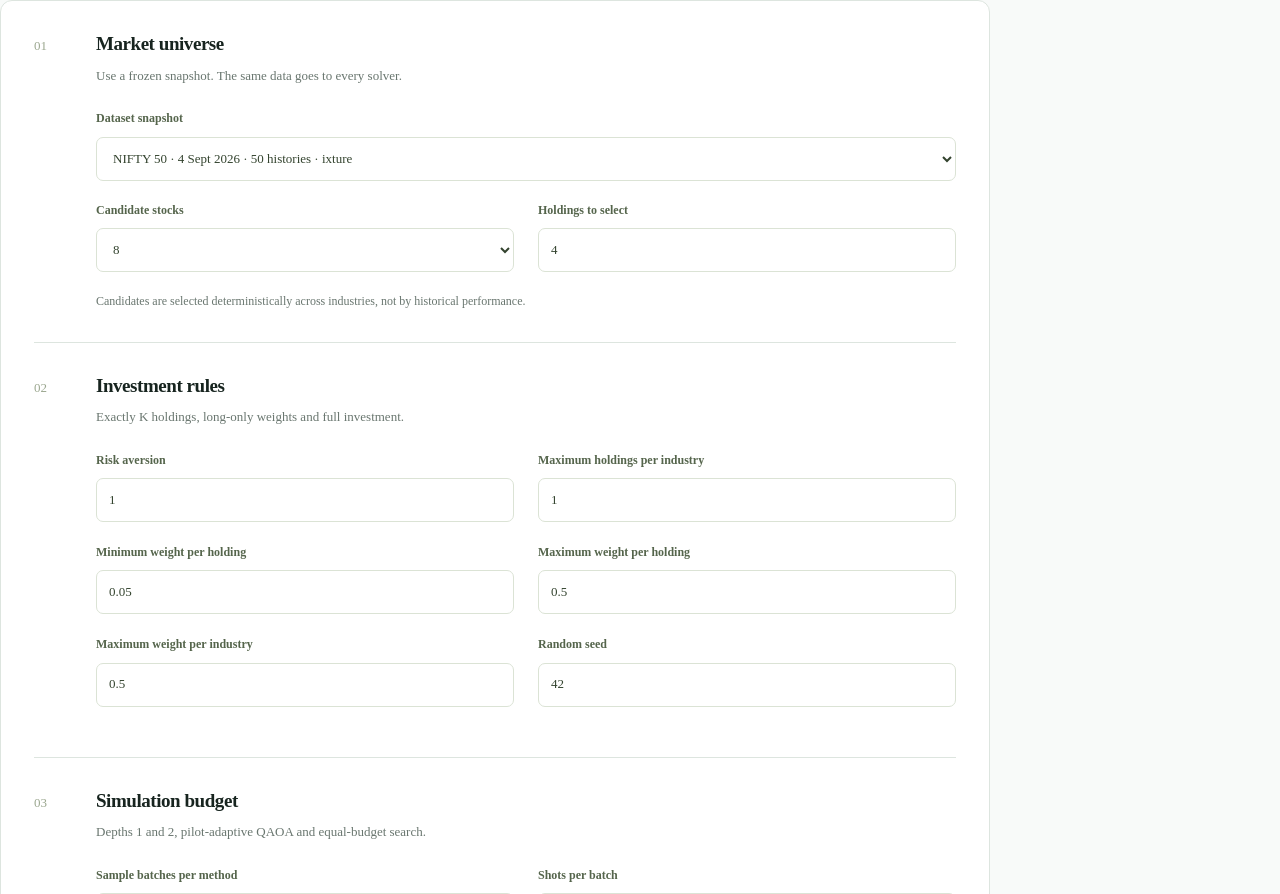
Scenario: explicit experiment submission › rejects impossible weighting before creating a job
Replace the text in the number field labelled "Holdings to select" with "1": (747, 250) [538,228,956,272]
(page scrolled)
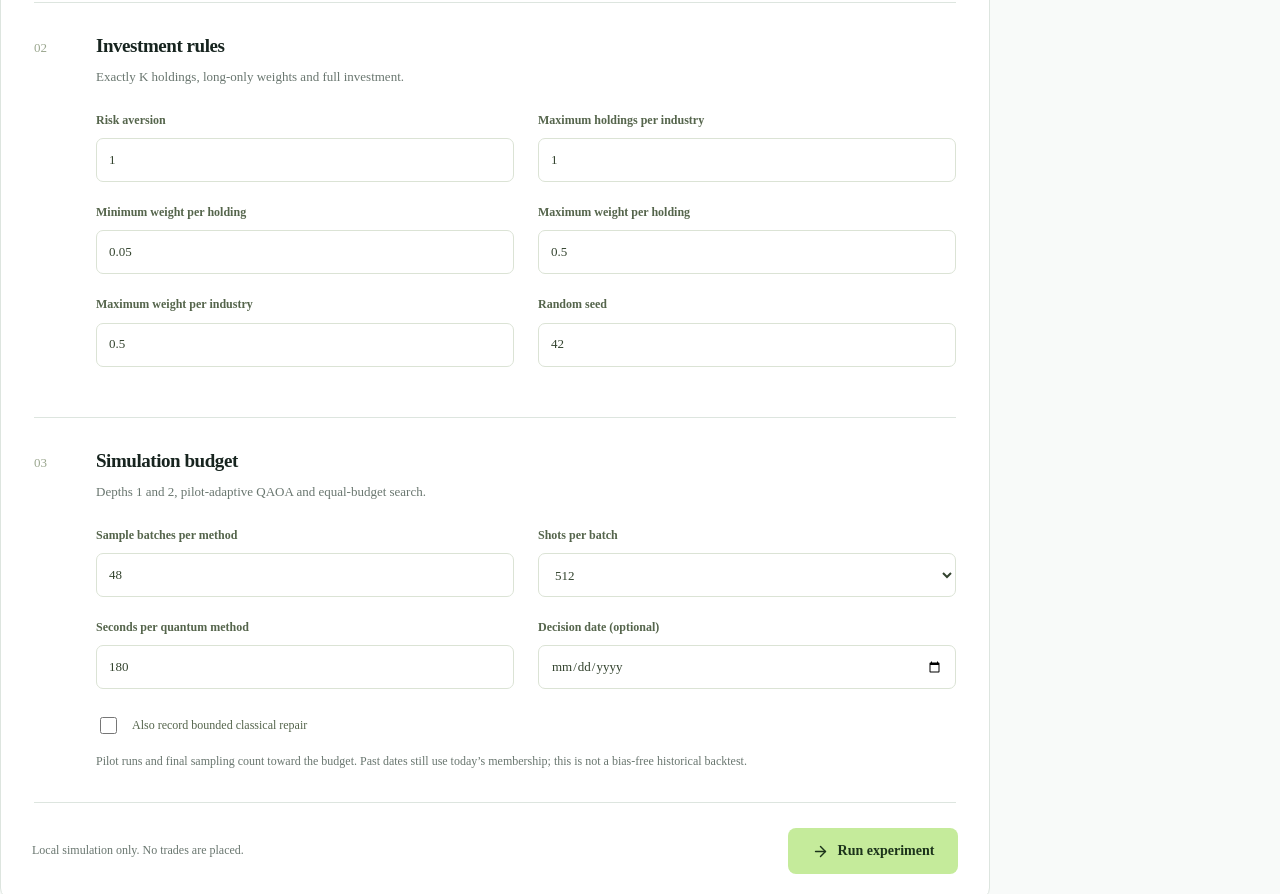
Click the button "Run experiment": (873, 851) [788,828,958,874]
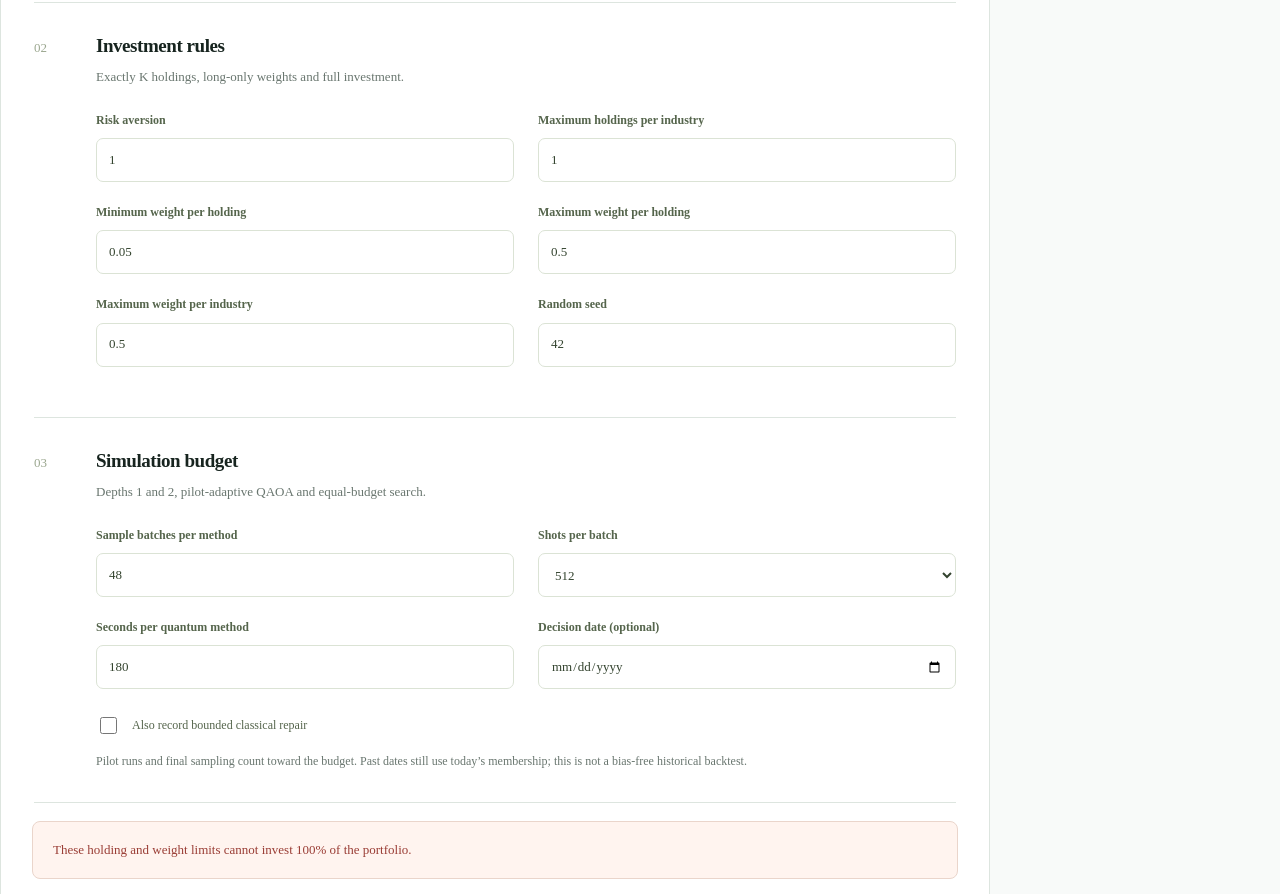
Expected: the message shows "cannot invest 100%", [53,842,412,857]
